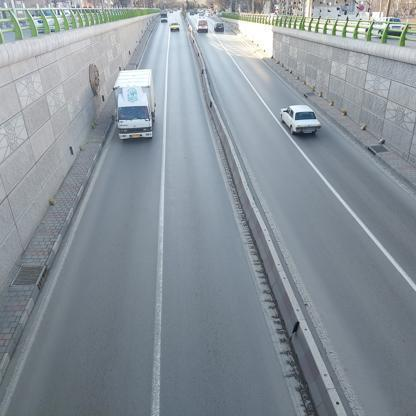Car: (282, 103, 323, 137), (363, 15, 411, 37), (196, 19, 208, 32), (214, 23, 225, 33), (170, 24, 182, 32), (162, 12, 168, 23)
Truck: (110, 63, 158, 142)
